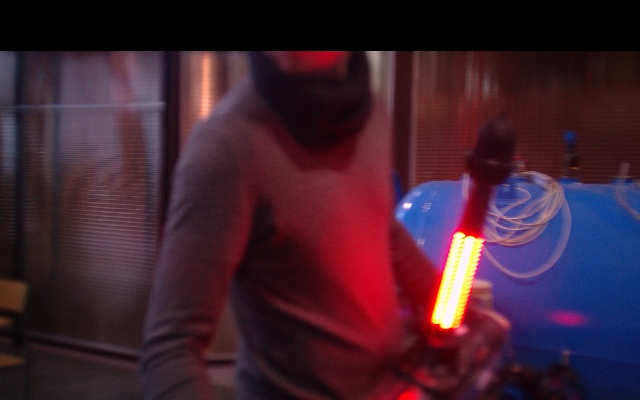red: (427, 230, 486, 331)
